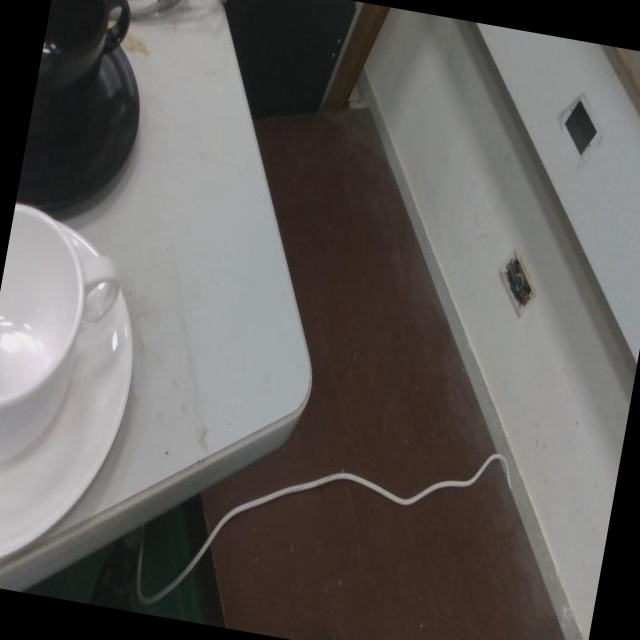black: (37, 0, 146, 220)
white: (0, 206, 131, 589)
